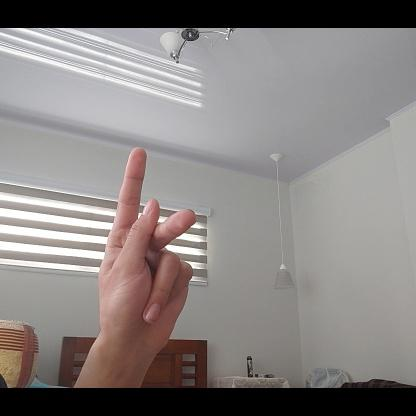K: (95, 142, 200, 353)
